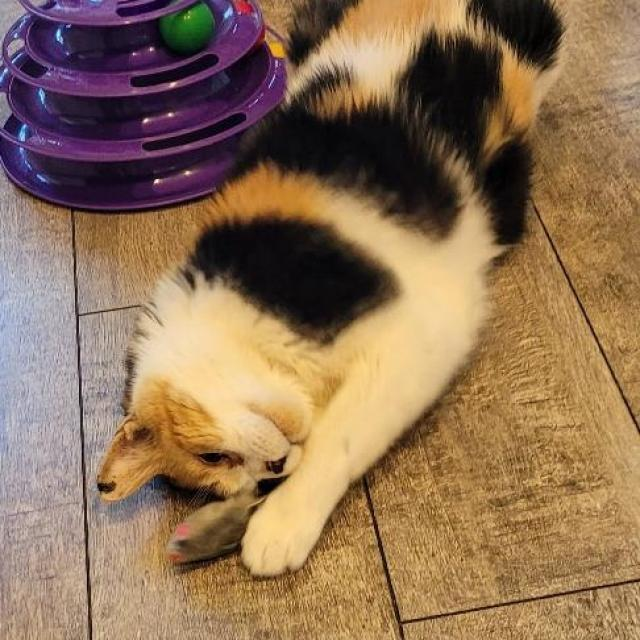calico_cat: (83, 322, 342, 514)
